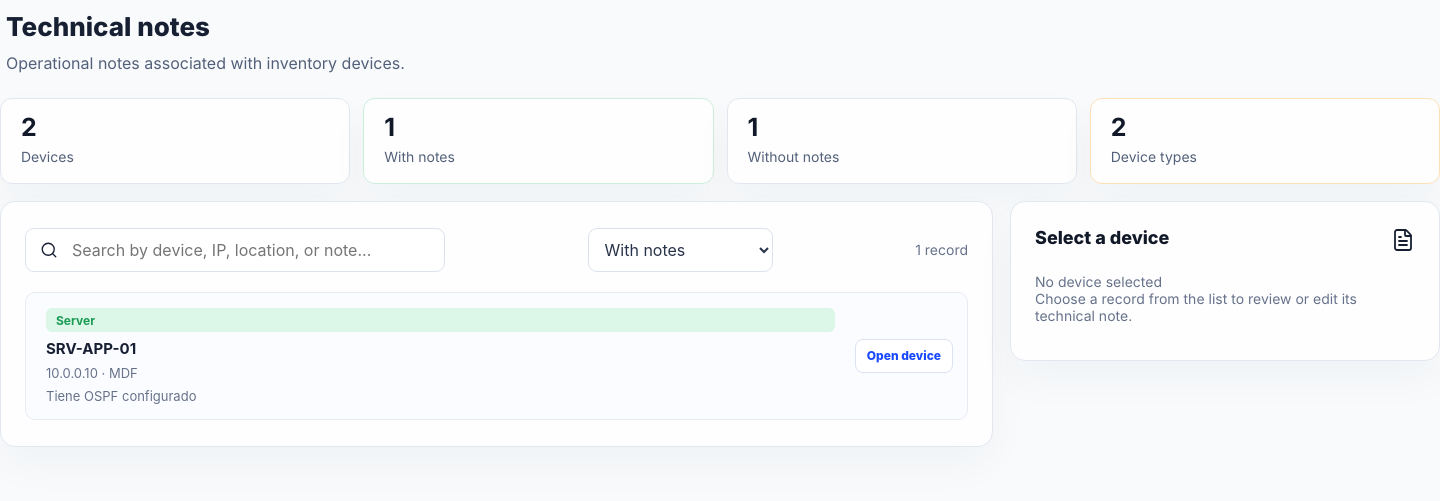
Test: NotesView › keeps the editor read-only without update permission
Click the button "Server SRV-APP-01 10.0.0.10 · MDF Tiene OSPF configurado". click: (440, 320)
box: [40,307,841,405]
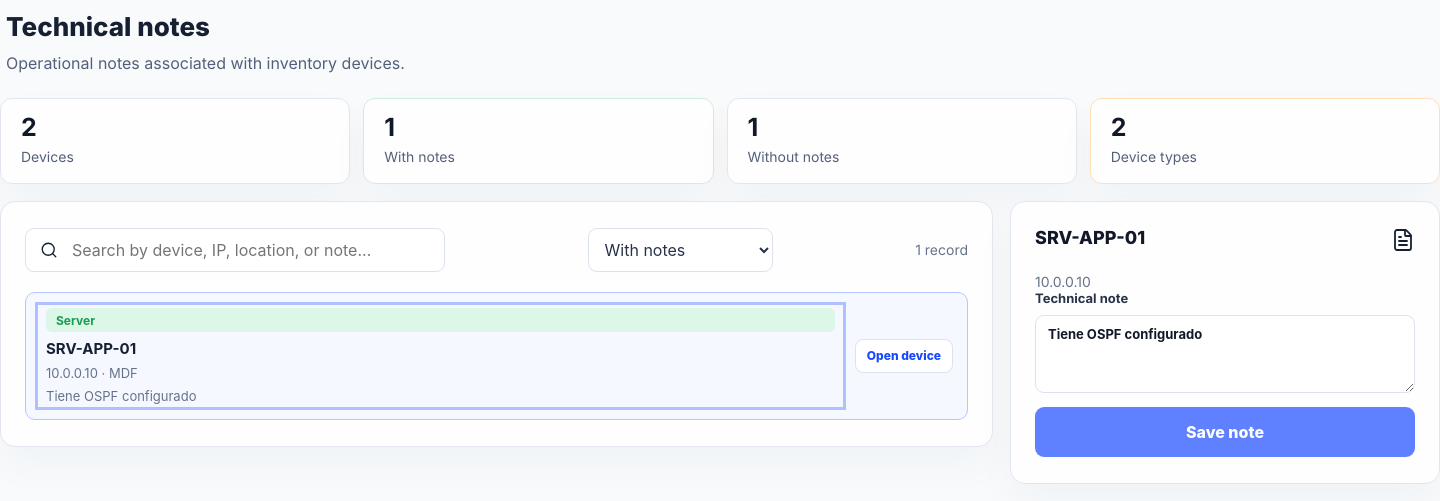
Expected: the text box labelled "Technical note" is disabled, [1035,315,1415,393]
Expected: the button "Save note" is disabled, [1035,407,1415,457]
